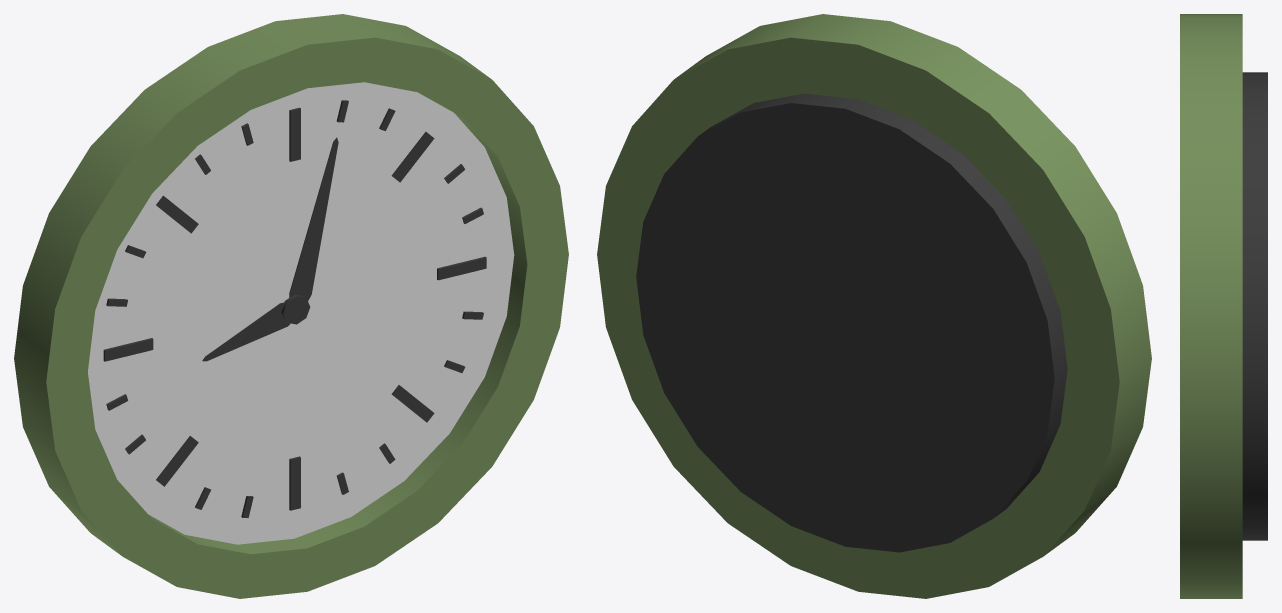
The model's file is Clock_01.fbx.
3 views of the same model, side by side, from view 1: azimuth 30°, elevation 25°; view 2: azimuth 150°, elevation 25°; view 3: azimuth 270°, elevation 25° (orthographic). The views are drawn at different scales.
Visible parts, largest first — view 1: Clock_01; view 2: Clock_01; view 3: Clock_01.
Boxes of the visible parts, <box> form: Clock_01: <box>14,14,568,598</box>; Clock_01: <box>597,14,1151,598</box>; Clock_01: <box>1180,14,1267,598</box>.
Bounding box in the file's own units: 0.3109 × 0.3109 × 0.0465.
